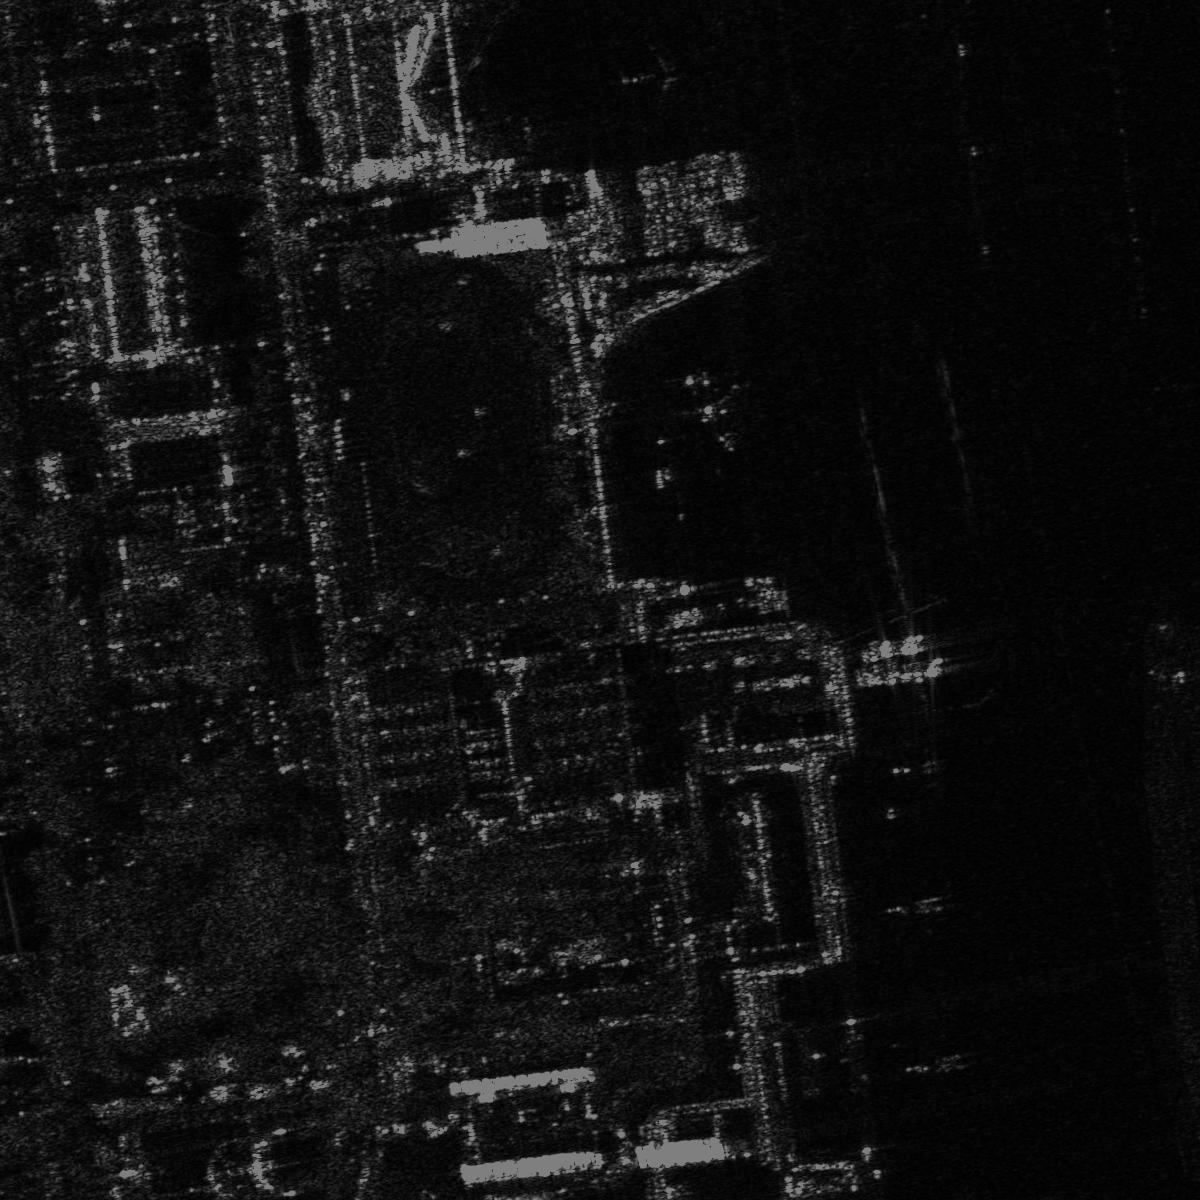Boeing787: (659, 365, 744, 457)
other: (616, 38, 693, 109)
